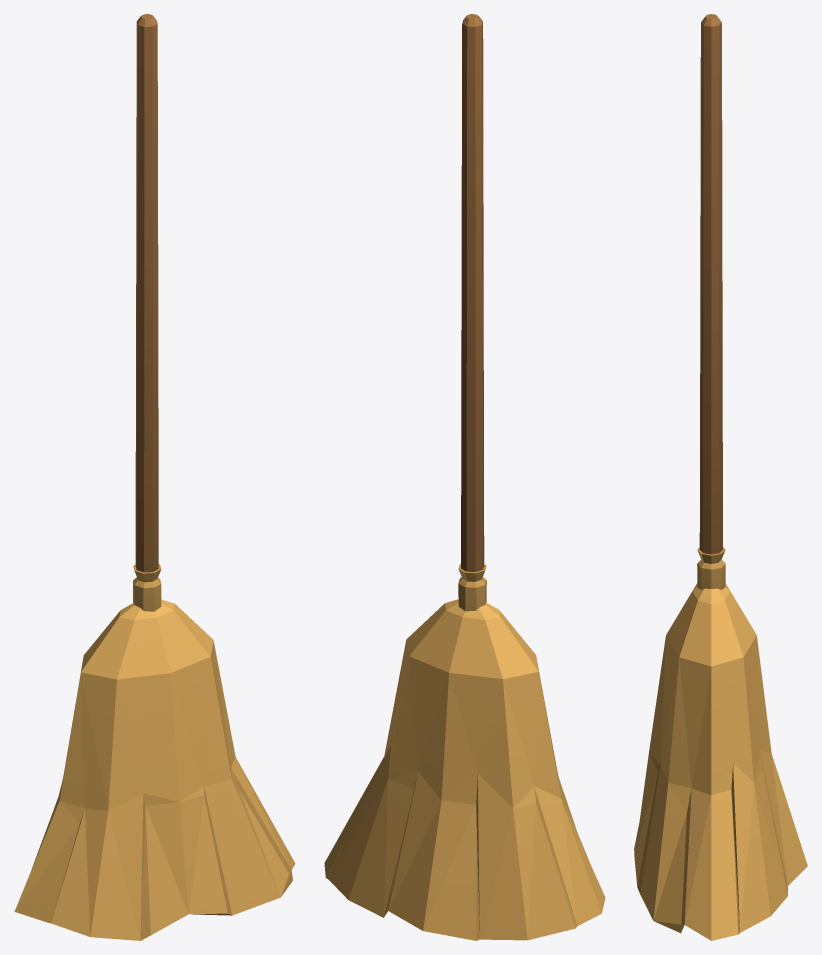
Rendered from Tool_Broom_01.obj.
3 renders of one model, left to right at view 1: azimuth 30°, elevation 25°; view 2: azimuth 150°, elevation 25°; view 3: azimuth 270°, elevation 25°, orthographic. The views are drawn at different scales.
Parts seen in each view (by area): view 1: Tool_Broom_01; view 2: Tool_Broom_01; view 3: Tool_Broom_01.
Boxes of the visible parts, bbox=[...] form: Tool_Broom_01: bbox=[14, 14, 295, 940]; Tool_Broom_01: bbox=[324, 14, 605, 940]; Tool_Broom_01: bbox=[634, 14, 807, 940].
Size of the model in its own units: 0.5658 by 1.71 by 0.3155.
1 material, 1 textured.
